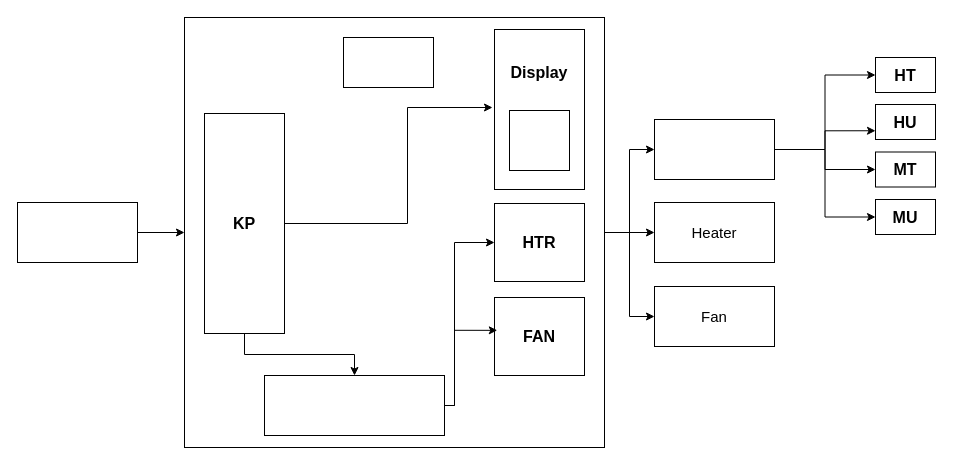
Some shapes in this 953 by 465 pixel diagram are drawn without their labels. Each missing label, with the centre of its shape:
Keypad: point 77,232
Mode_Time Processing (MT): point 354,405
OS: point 388,62
Seven Segments Display: point 714,149
SSD: point 539,140
